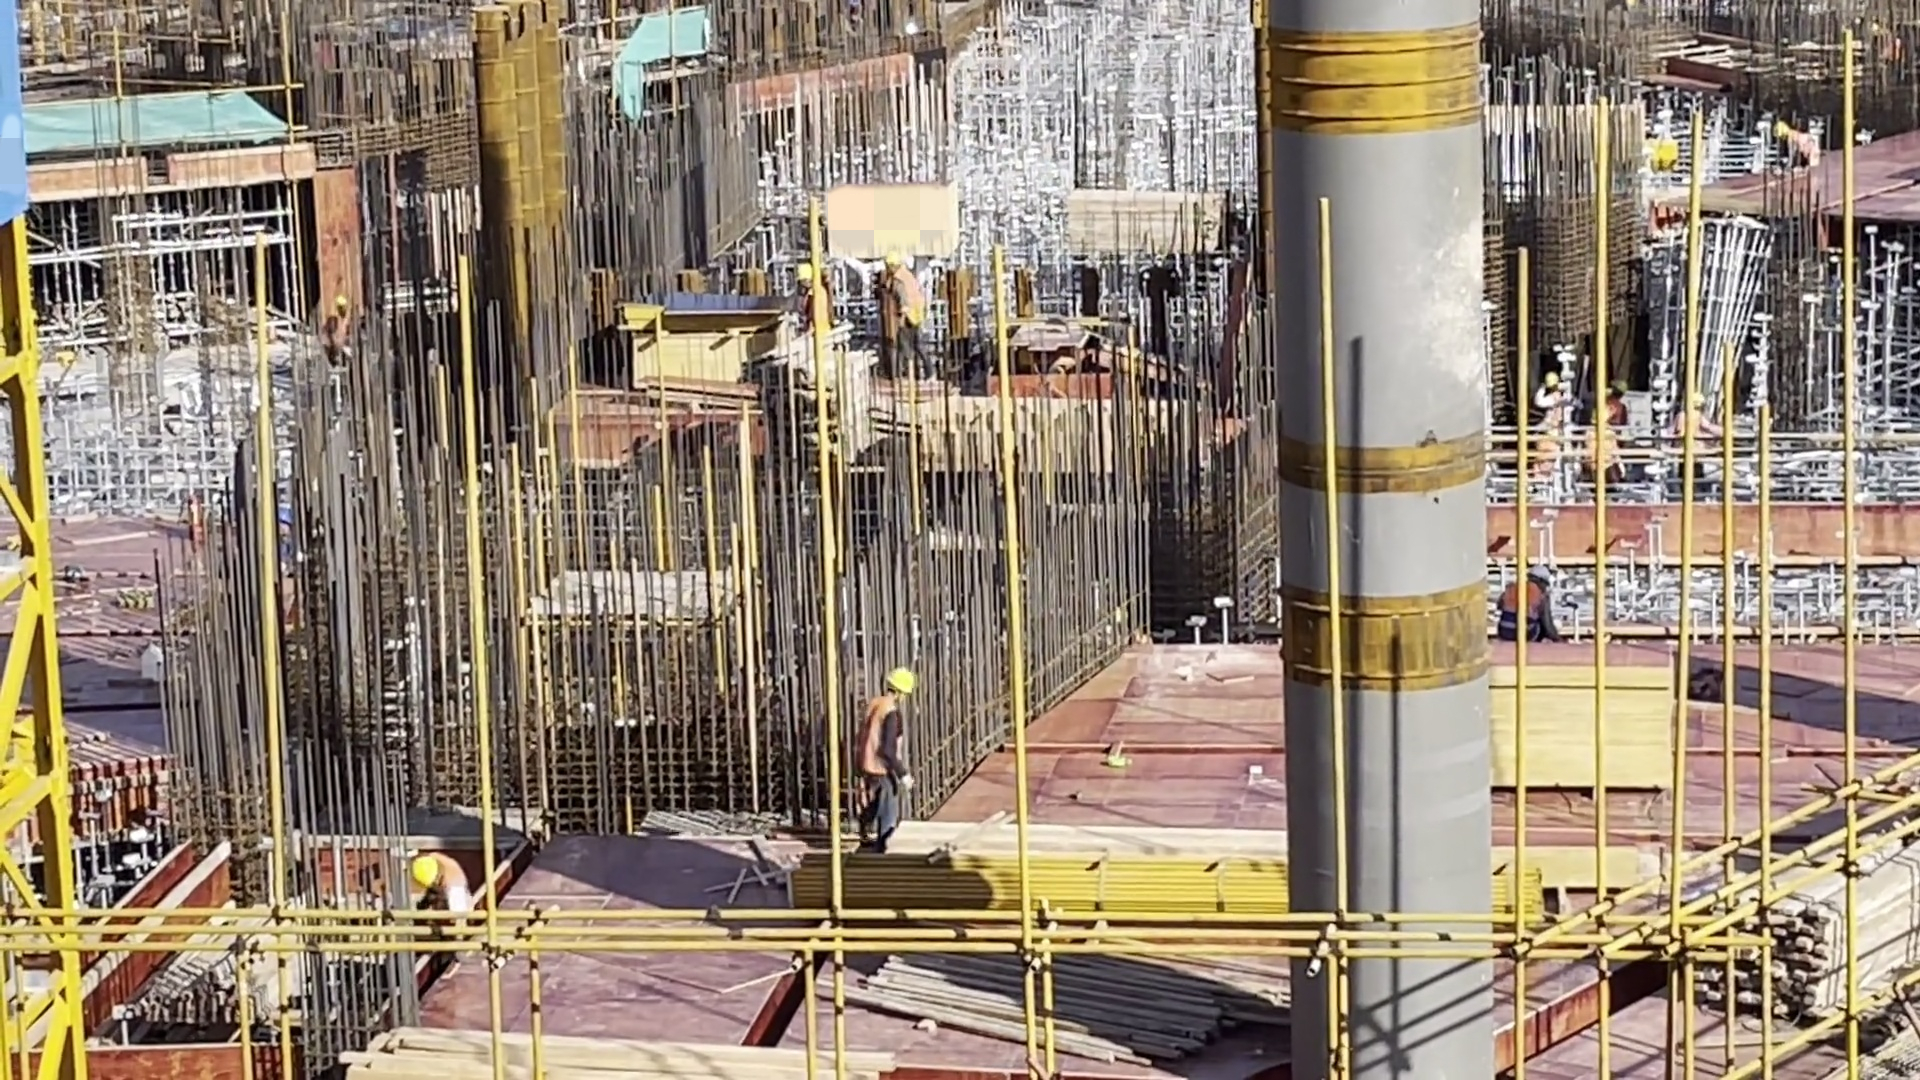helmet: (879, 663, 919, 702), (406, 847, 436, 883), (789, 265, 819, 293), (1538, 369, 1562, 396), (1608, 379, 1634, 404), (1525, 565, 1551, 588), (879, 244, 901, 273), (1773, 115, 1794, 145), (1684, 391, 1705, 417)
person: (856, 661, 915, 842), (880, 259, 941, 390), (400, 855, 481, 927), (1495, 556, 1565, 638), (788, 266, 840, 334), (1762, 121, 1821, 176), (1586, 410, 1625, 485), (1669, 389, 1721, 442), (1529, 369, 1573, 423), (1595, 376, 1638, 426)
vest: (859, 703, 892, 774)
